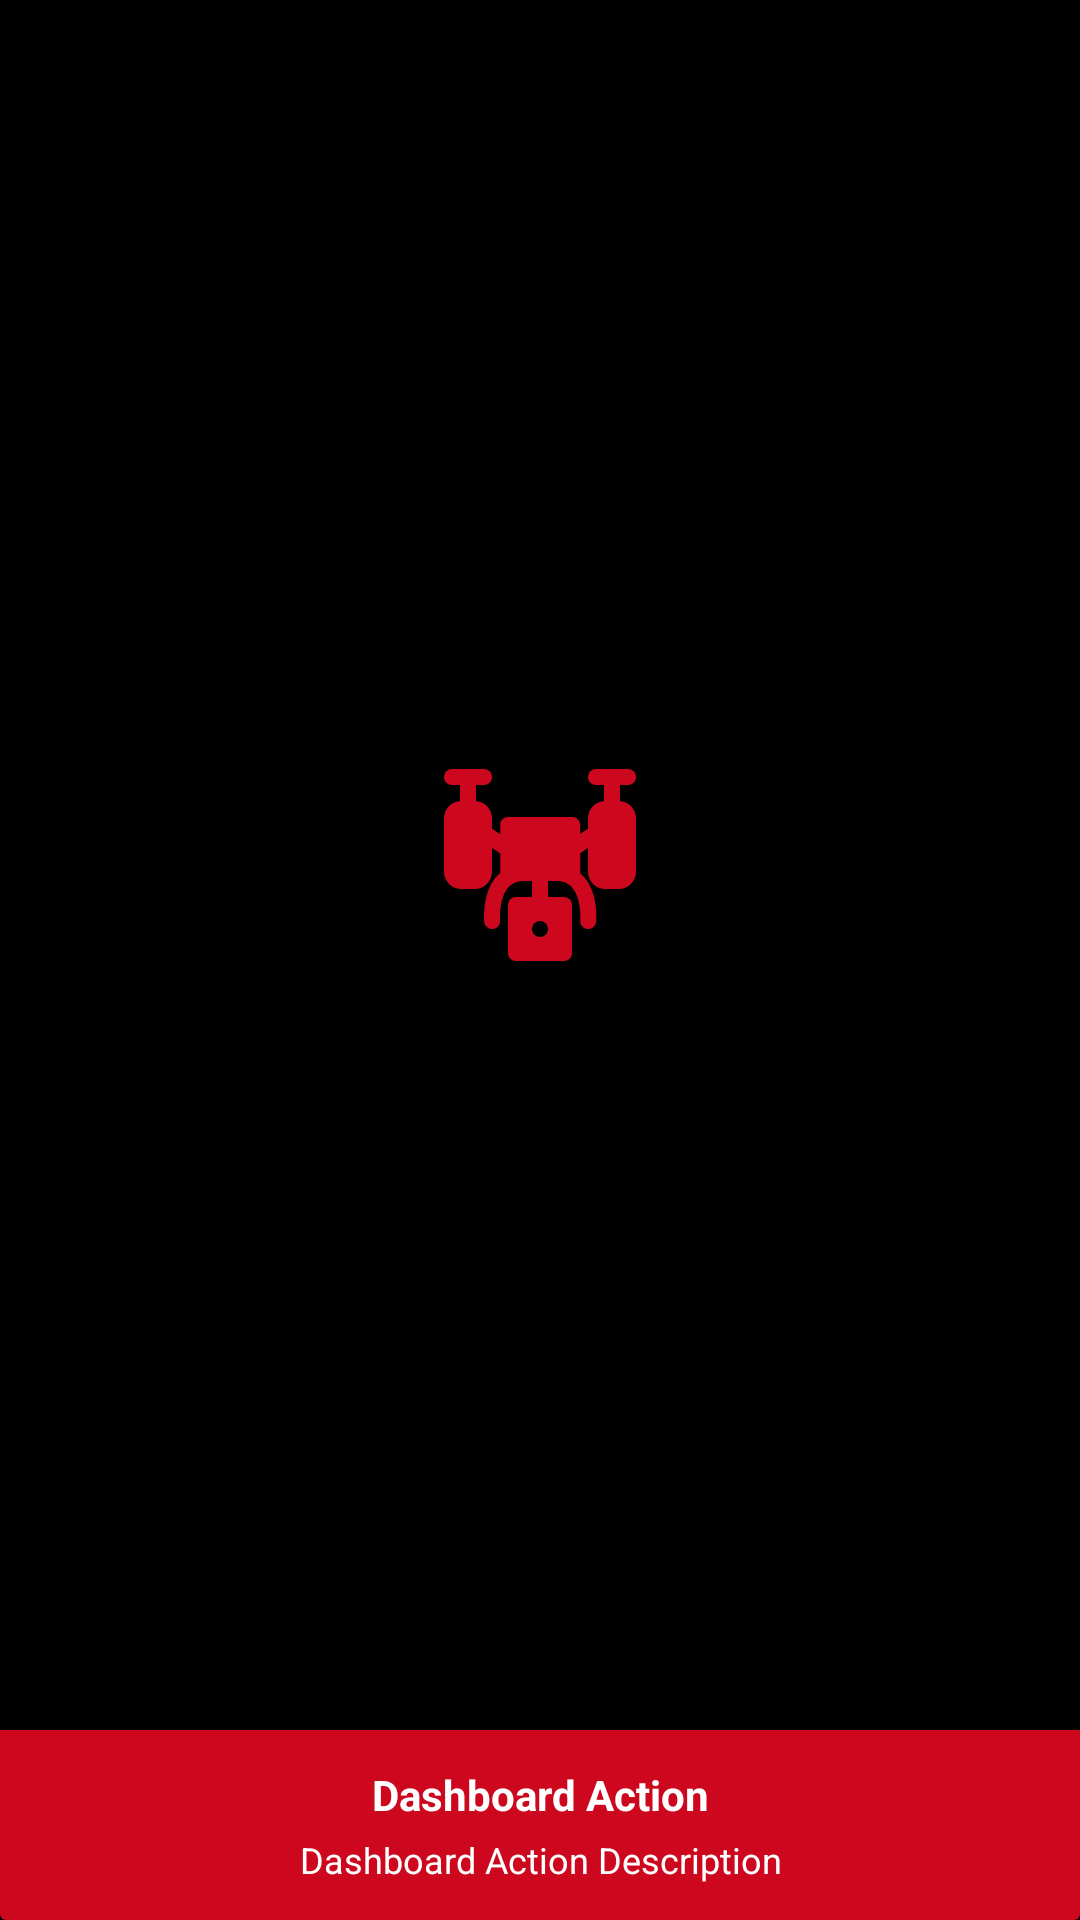

Locate icon controls on the screen. Image size 1080*1920, boxes as (x1, y1, x2, y2).
drone: (444, 769, 636, 961)
